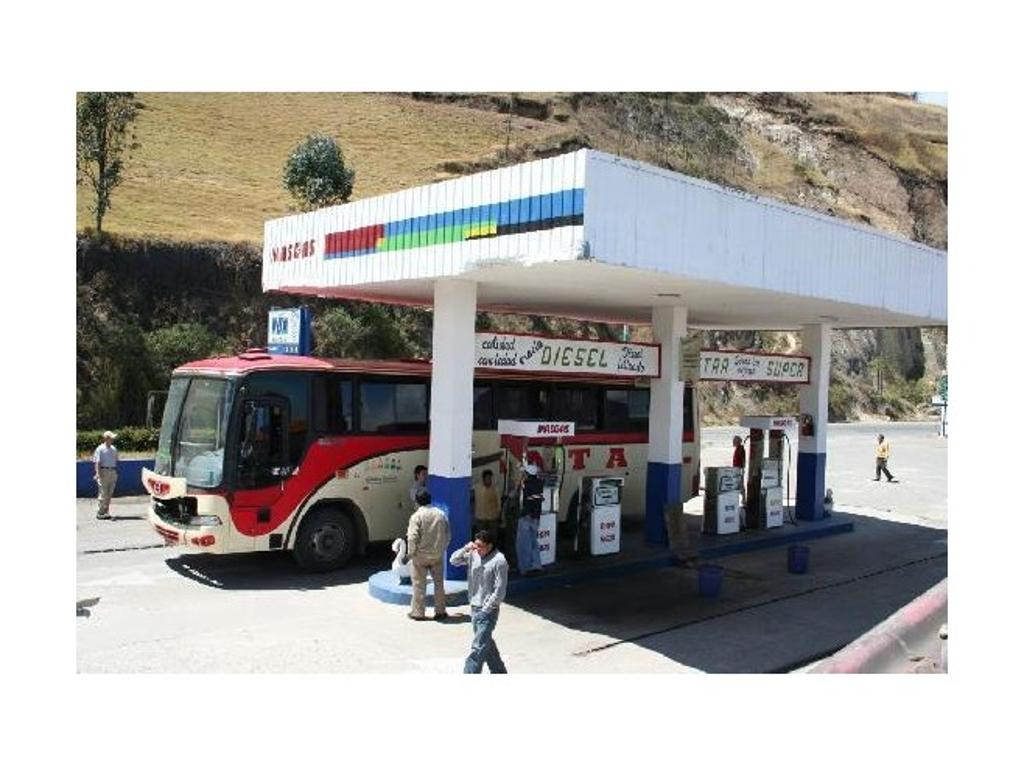face: (476, 539, 488, 554), (484, 473, 494, 485), (418, 469, 427, 481), (104, 435, 113, 445)
